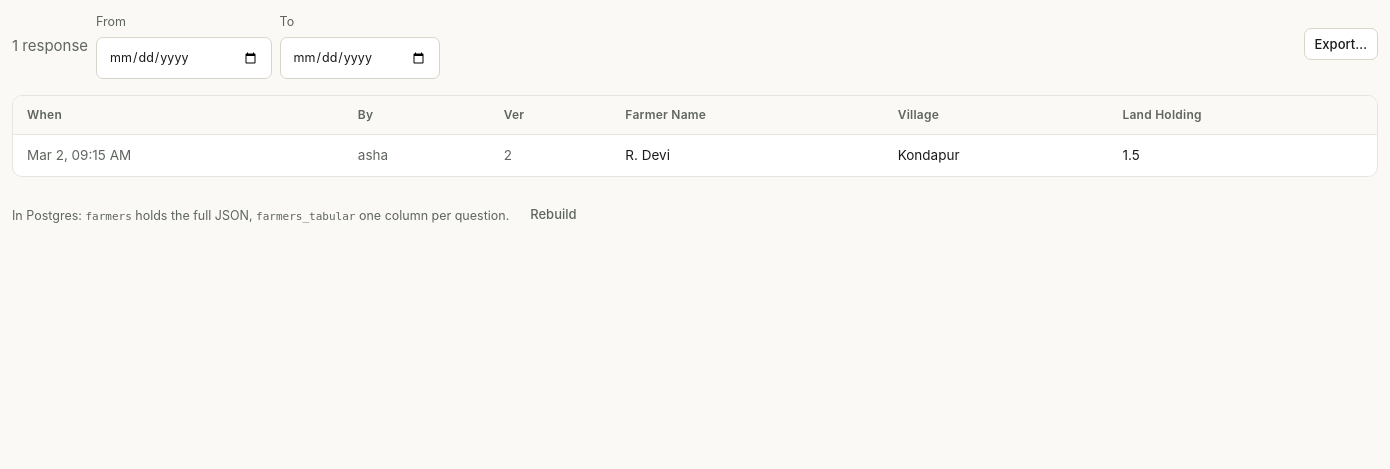
Test case: what comes out › a refused download is said out loud, not swallowed
Expected: the text "R. Devi" is shown, [611, 135, 884, 176]
Click the button "Export…" at coordinates (1341, 44), box [1304, 28, 1378, 60]
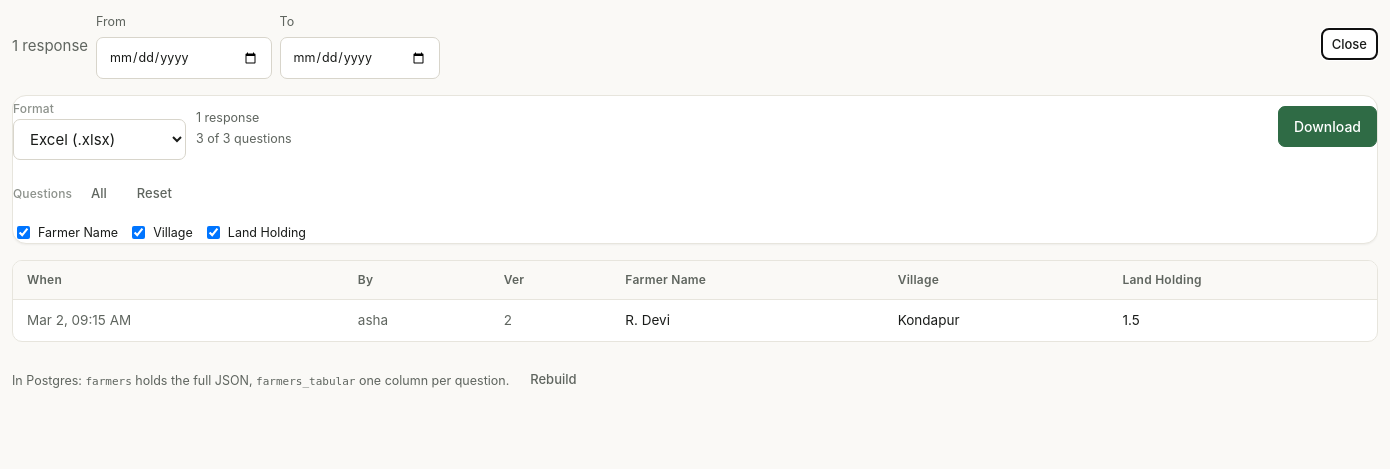
Click the button "Download" at coordinates (1327, 126), box [1278, 106, 1377, 147]
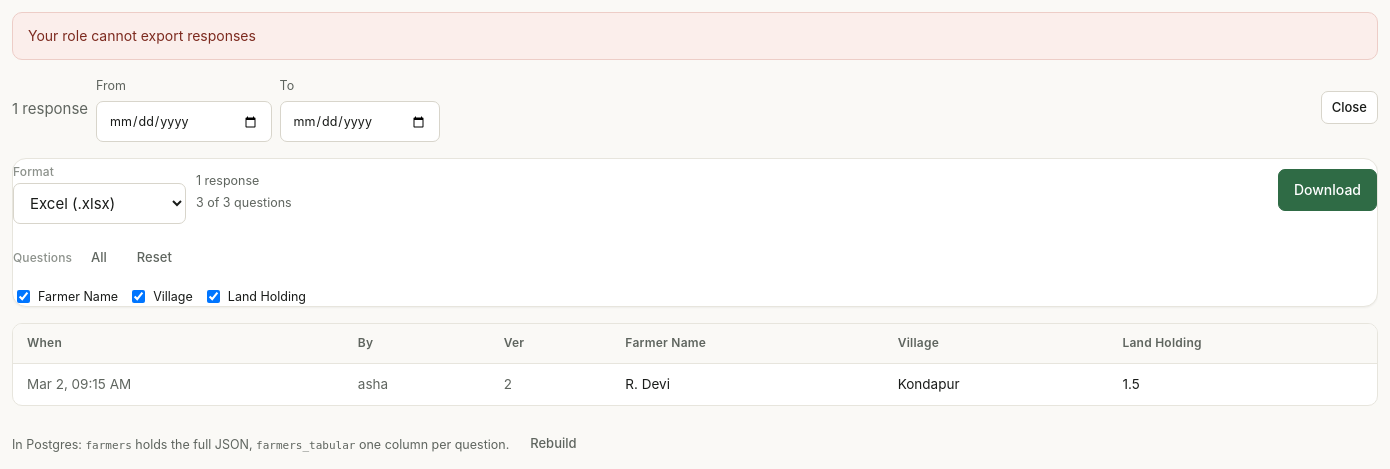
Expected: the text "R. Devi" is shown, [611, 363, 884, 405]
Expected: the text "Your role cannot export responses" is shown, [12, 12, 1378, 60]
